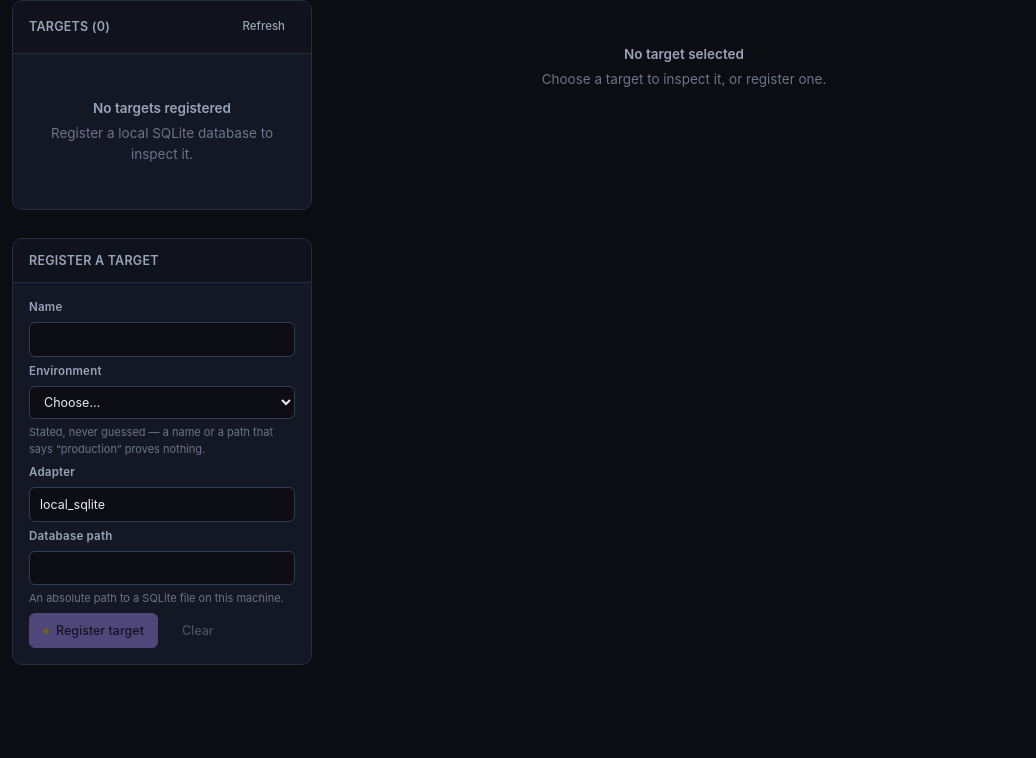
it: a registration whose reply was lost › separates a name already taken from a registration that went through
Expected: the text "No targets registered" is shown, top-left (93, 100), bottom-right (231, 116)
Type "Reports" into the field labelled "Name".
click(162, 340); type("Reports")  # box top-left (29, 322), bottom-right (295, 357)
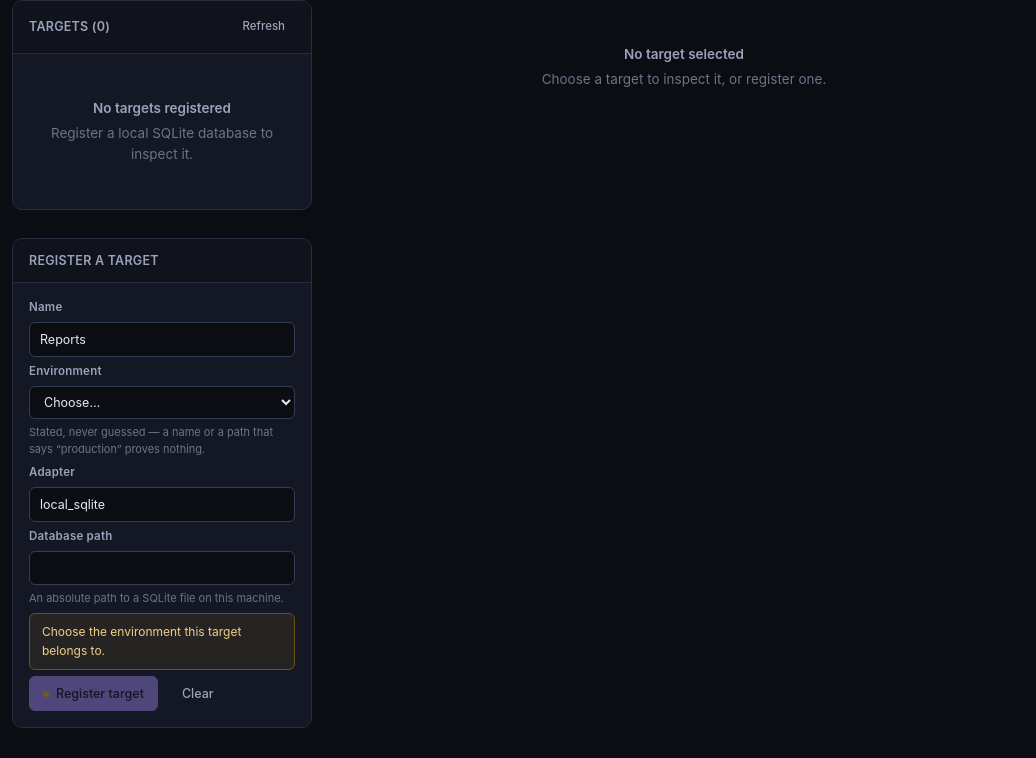
Select "local" in the dropdown labelled "Environment" at [162, 402], box top-left (29, 386), bottom-right (295, 419)
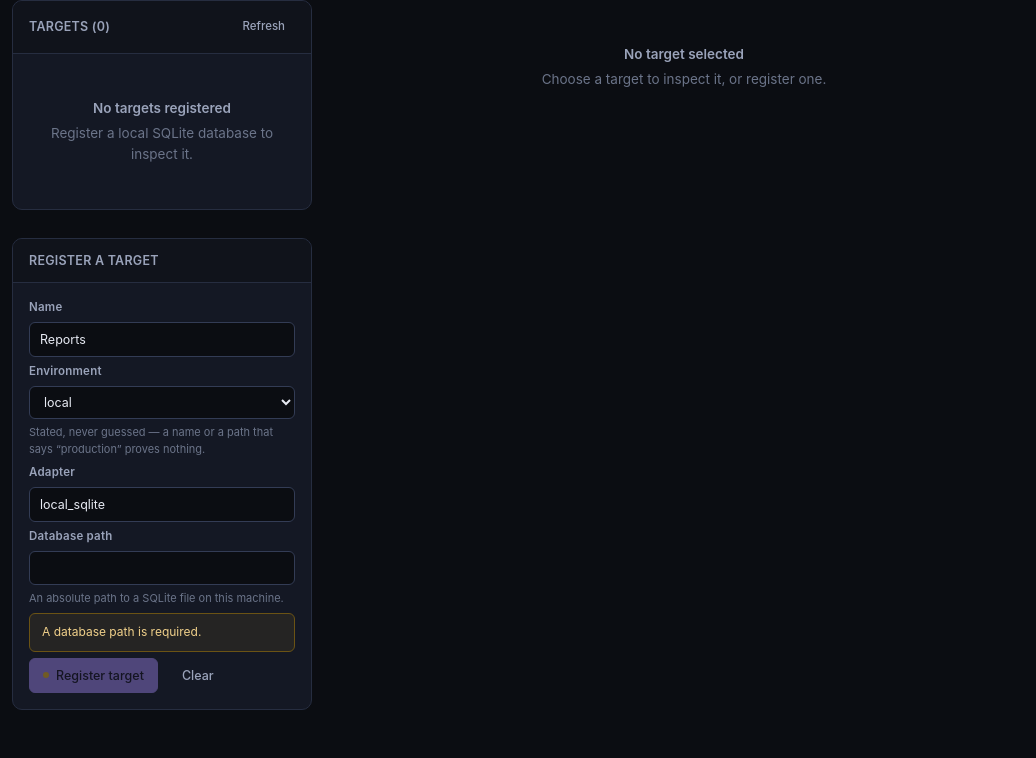
Type "C:\\data\\reports.sqlite" into the field labelled "Database path".
click(162, 568); type("C:\\data\\reports.sqlite")  # box top-left (29, 551), bottom-right (295, 585)
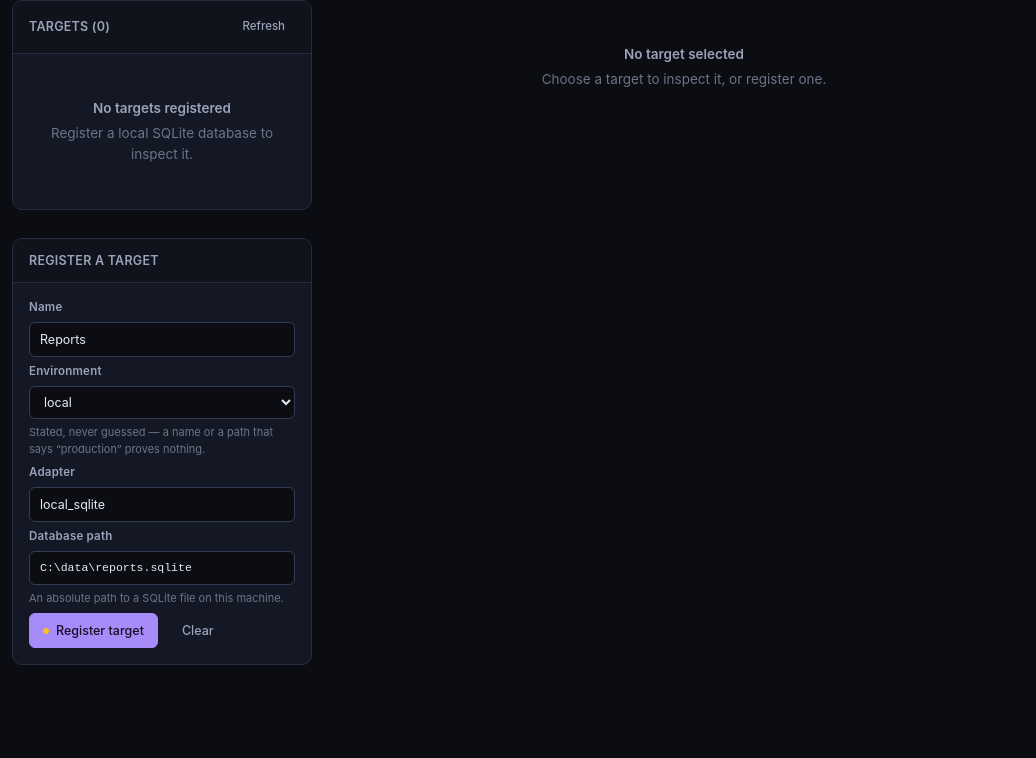
Click the button "Register target".
click(93, 631)  # box top-left (29, 613), bottom-right (158, 648)
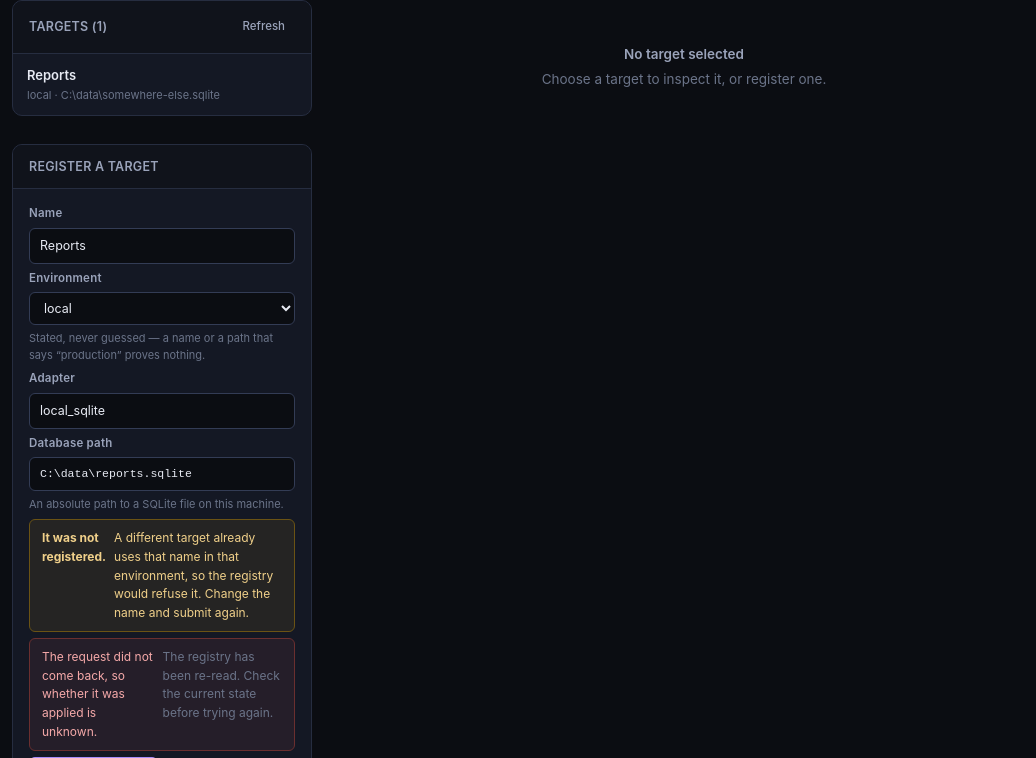
Expected: the text "A different target already uses that name in that environment" is shown, top-left (114, 530), bottom-right (273, 620)
